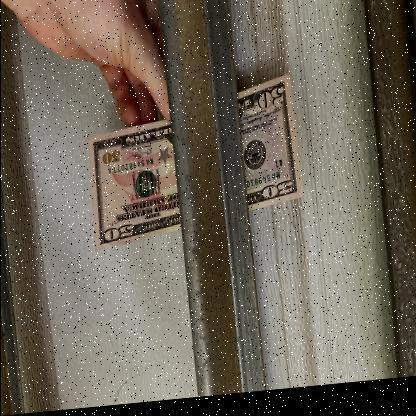dollar_front: (86, 79, 302, 255)
